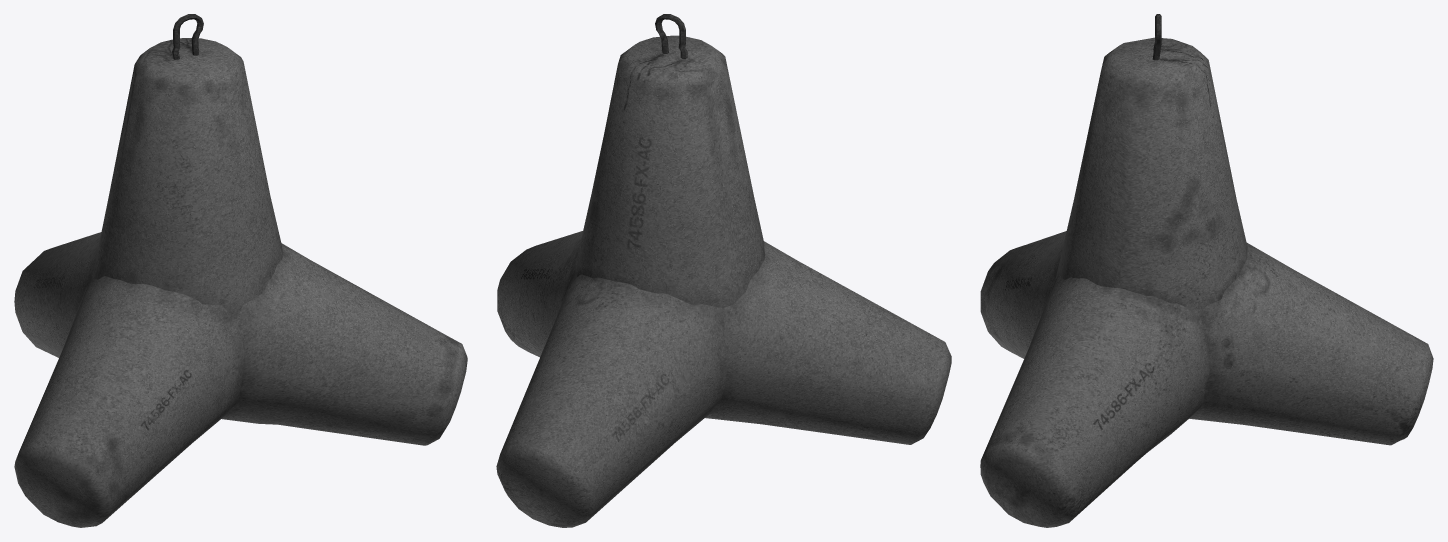
The model's file is ETC0610063.fbx.
3 views of the same model, side by side, from view 1: azimuth 30°, elevation 25°; view 2: azimuth 150°, elevation 25°; view 3: azimuth 270°, elevation 25° (orthographic).
Parts seen in each view (by area): view 1: smETC0610063; view 2: smETC0610063; view 3: smETC0610063.
Boxes of the visible parts, <box> form: smETC0610063: <box>14,14,467,527</box>; smETC0610063: <box>496,14,951,527</box>; smETC0610063: <box>980,14,1433,527</box>.
Size of the model in its own units: 98.25 by 90.84 by 87.88.
Materials: 1 (1 with a texture image).
